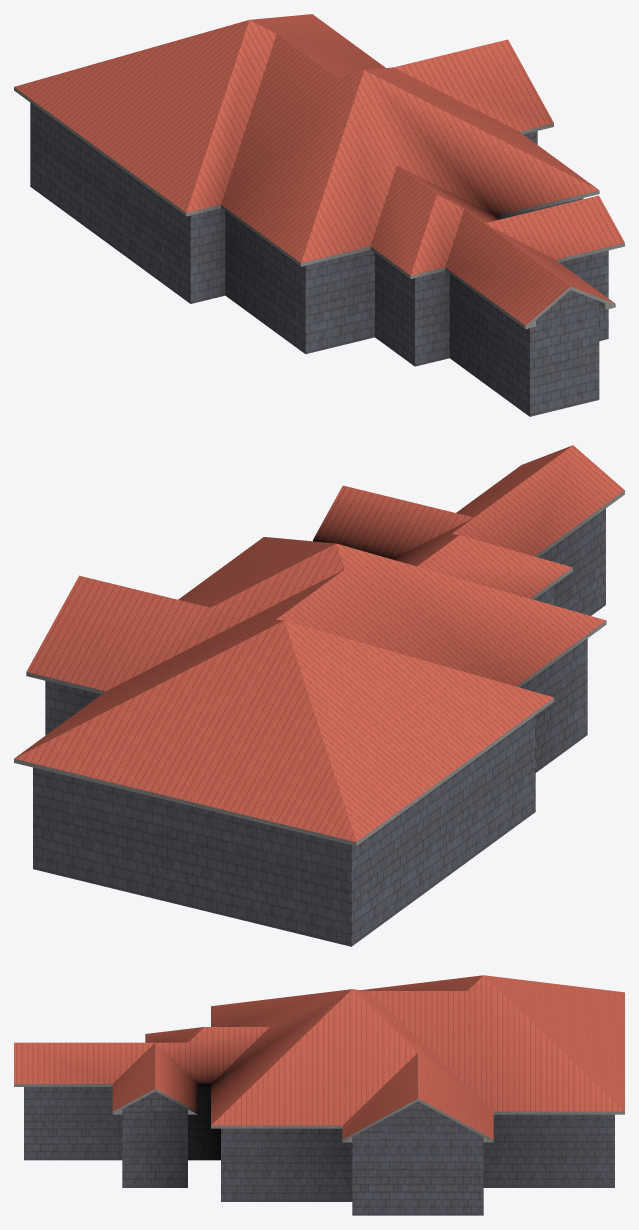
Rendered from house_027.glb.
3 renders of one model, top to bottom at view 1: azimuth 30°, elevation 25°; view 2: azimuth 150°, elevation 25°; view 3: azimuth 270°, elevation 25°, orthographic. The views are drawn at different scales.
Parts seen in each view (by area): view 1: Export; view 2: Export; view 3: Export.
Boxes of the visible parts, x1,y1,x2,y2 form: Export: (14, 14, 624, 416); Export: (14, 445, 624, 946); Export: (14, 975, 624, 1215).
Bounding box in the file's own units: 10.6 × 5.28 × 18.6.
Materials: 3 (3 with a texture image).
